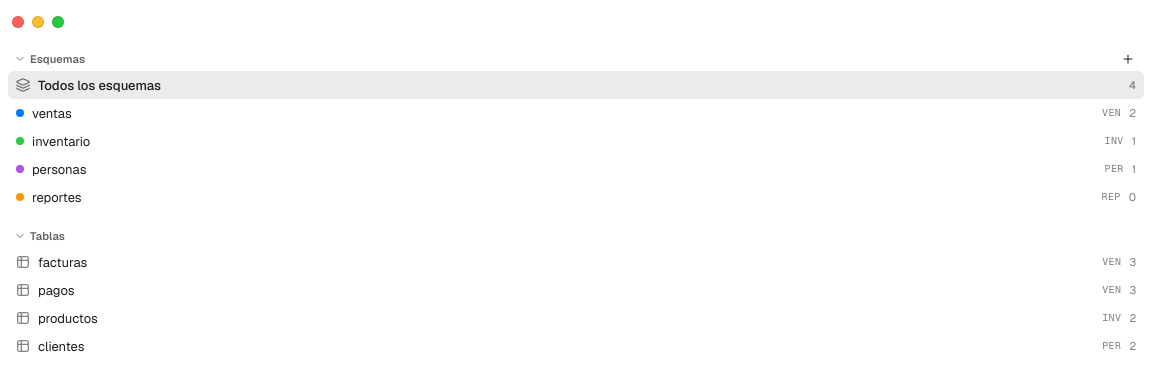
Test case: menú contextual en la fila de la barra lateral (FR-033) › se abre con el botón derecho y ofrece editar y eliminar
Right-click the option with aria-label "ventas, 2 tablas" at (52, 113), box [8,99,1144,127]
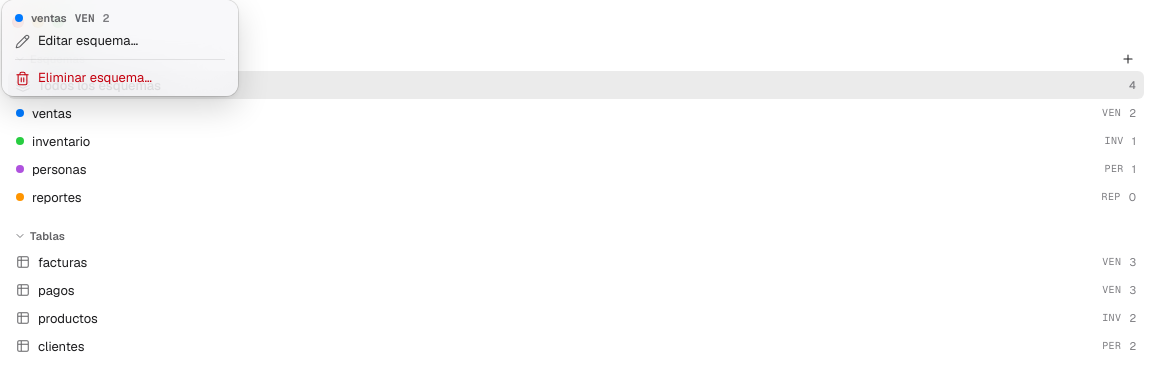
Expected: the menu item "Editar esquema…" is shown, [15,32,138,49]
Expected: the menu item "Eliminar esquema…" is shown, [15,69,152,86]
